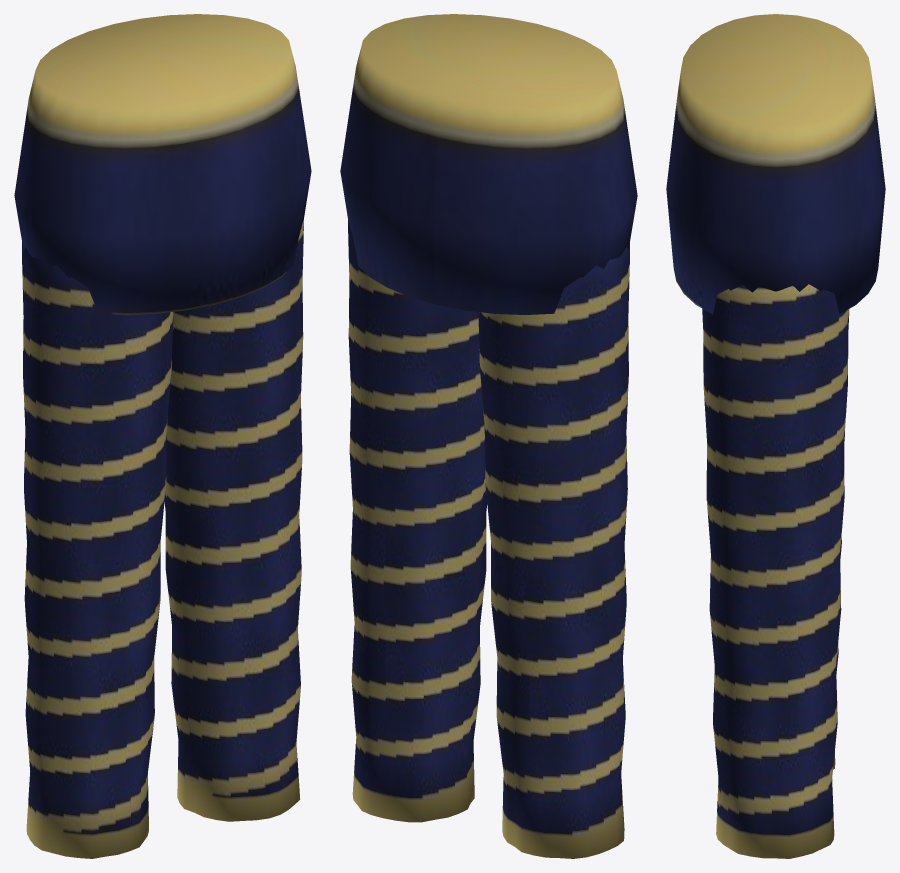
File: night_wraps_legs.glb
3 views of the same model, side by side, from view 1: azimuth 30°, elevation 25°; view 2: azimuth 150°, elevation 25°; view 3: azimuth 270°, elevation 25° (orthographic). The views are drawn at different scales.
Parts seen in each view (by area): view 1: night_wraps_legs; view 2: night_wraps_legs; view 3: night_wraps_legs.
Part boxes in pixels (box(x1,y1,x2,y2)): night_wraps_legs: box(14, 14, 311, 858); night_wraps_legs: box(340, 14, 637, 858); night_wraps_legs: box(666, 14, 885, 858).
Size of the model in its own units: 0.21 by 0.55 by 0.15.
1 material, 1 textured.
